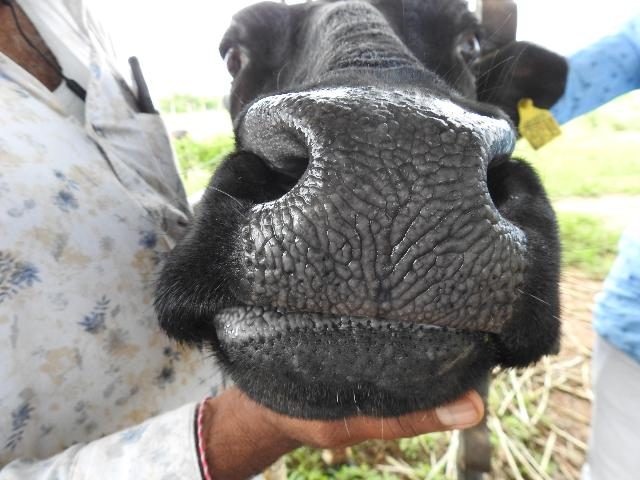Muzzle: (314, 100, 481, 324)
